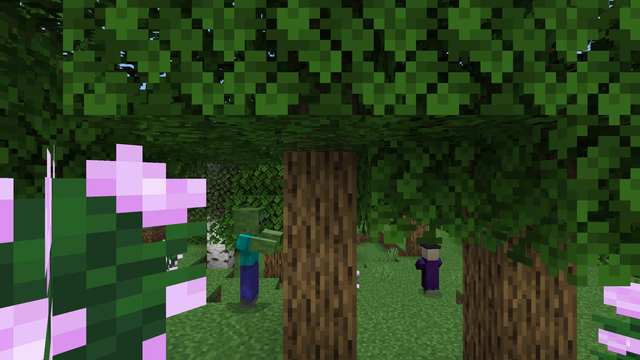sorcieres: (419, 244, 440, 295)
zombies: (231, 209, 266, 308)
